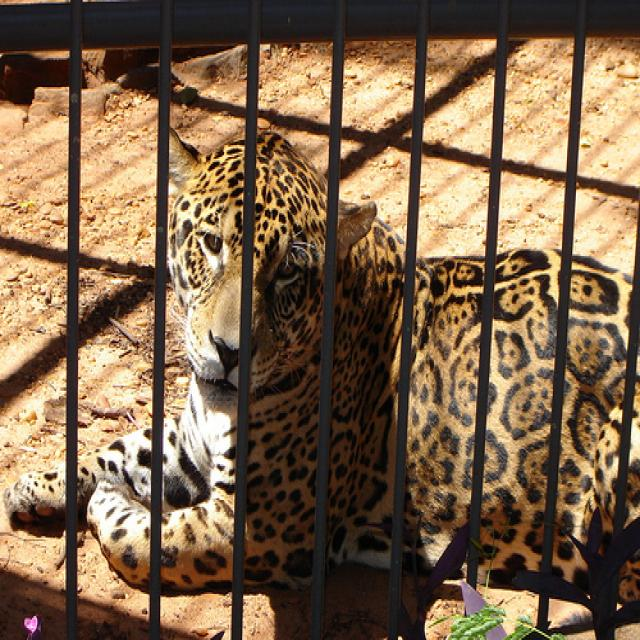Leopard: (2, 120, 638, 604)
